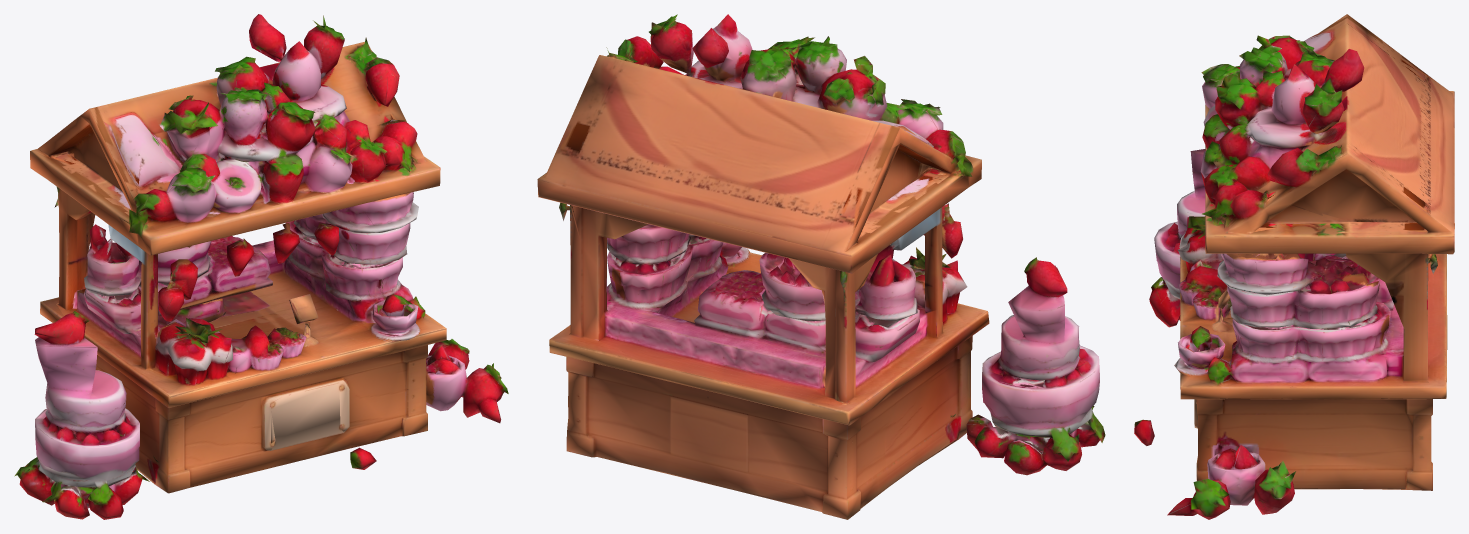
File: Meshy_AI_Strawberry_Delight_St_0202125544_texture.fbx
3 renders of one model, left to right at view 1: azimuth 30°, elevation 25°; view 2: azimuth 150°, elevation 25°; view 3: azimuth 270°, elevation 25°, orthographic. The views are drawn at different scales.
Visible parts, largest first — view 1: Mesh1.0; view 2: Mesh1.0; view 3: Mesh1.0.
Boxes of the visible parts, left/top/right/bottom form: Mesh1.0: left=14, top=14, right=508, bottom=519; Mesh1.0: left=537, top=14, right=1105, bottom=519; Mesh1.0: left=1134, top=14, right=1454, bottom=519.
Bounding box in the file's own units: 199 × 157 × 115.
Materials: 1 (1 with a texture image).
